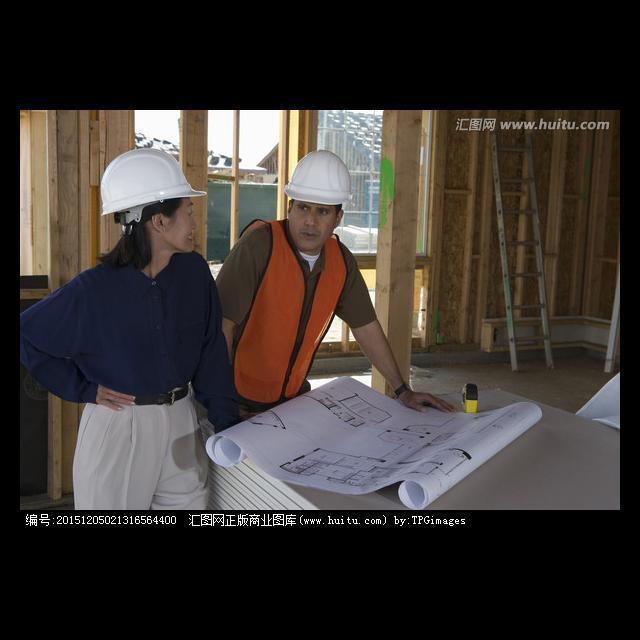Capacete: (101, 149, 206, 224), (284, 150, 350, 204)
Colete: (233, 221, 346, 403)
Pessoa: (20, 149, 237, 509), (217, 150, 454, 416)
